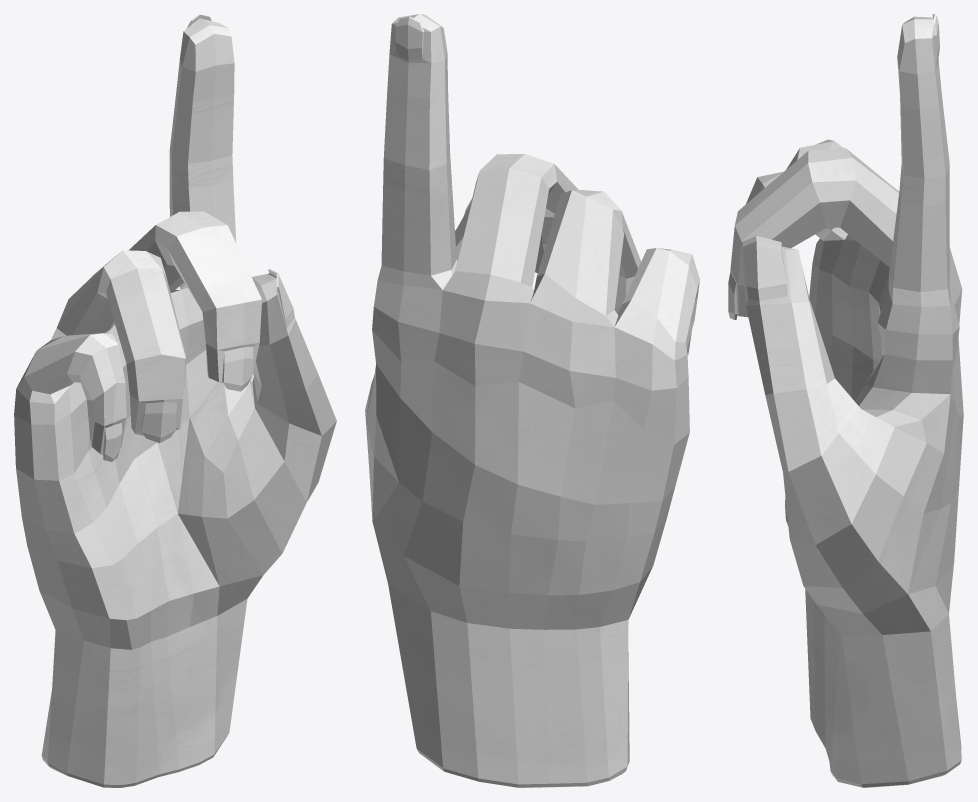
The model's file is r_hard_point2.glb.
3 renders of one model, left to right at view 1: azimuth 30°, elevation 25°; view 2: azimuth 150°, elevation 25°; view 3: azimuth 270°, elevation 25°, orthographic. The views are drawn at different scales.
Visible parts, largest first — view 1: R_Hard_Point2; view 2: R_Hard_Point2; view 3: R_Hard_Point2.
Part boxes in pixels (bbox=[...]): R_Hard_Point2: bbox=[14, 14, 336, 787]; R_Hard_Point2: bbox=[365, 14, 699, 787]; R_Hard_Point2: bbox=[728, 14, 963, 787].
Size of the model in its own units: 0.108 by 0.2444 by 0.0662.
1 material, 1 textured.
